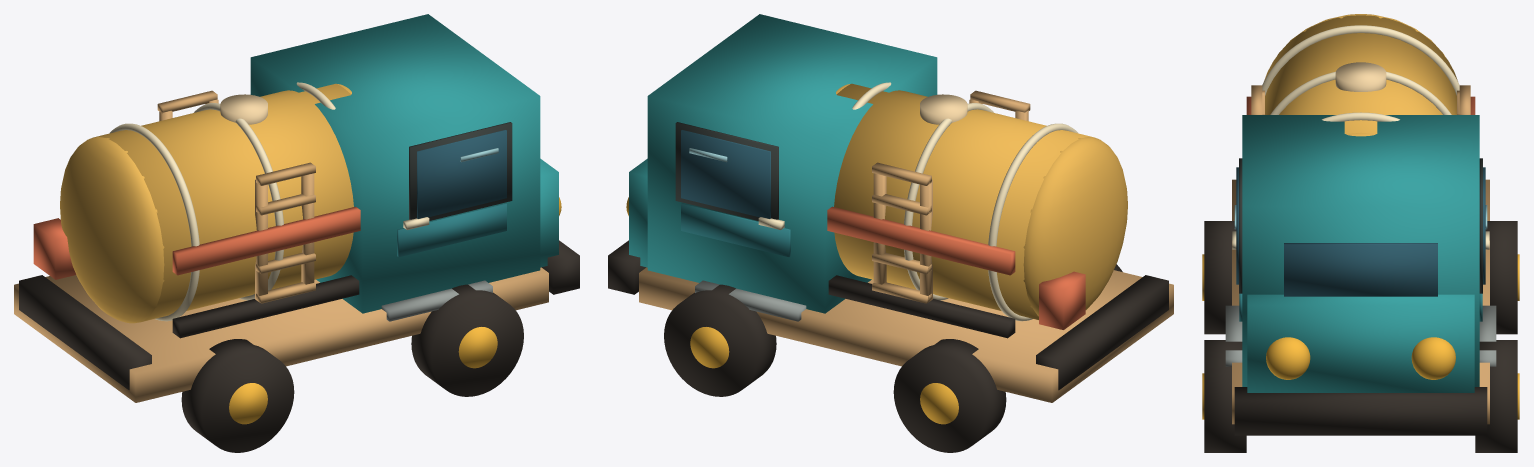
Rendered from fleet-tanker.glb.
The picture shows the model from 3 angles, left to right: view 1: azimuth 30°, elevation 25°; view 2: azimuth 150°, elevation 25°; view 3: azimuth 270°, elevation 25°; orthographic projection. The views are drawn at different scales.
Visible parts, largest first — view 1: Tanker_Cab, Tanker_Tank_Body, Tanker_Chassis, Tanker_Tank_Dome.001, Tanker_Wheel_3, Tanker_Wheel_1, Tanker_Left_Window, Tanker_Rear_Bumper, Tanker_Side_Stripe_Near, Tanker_Side_Pipe_Near, Tanker_Door_Panel_Left, Tanker_Window_Trim_Left (+16 smaller); view 2: Tanker_Cab, Tanker_Tank_Body, Tanker_Chassis, Tanker_Tank_Dome.001, Tanker_Wheel_4, Tanker_Wheel_2, Tanker_Right_Window, Tanker_Rear_Bumper, Tanker_Side_Stripe, Tanker_Side_Pipe, Tanker_Door_Panel_Right, Tanker_Rear_Valve_Box (+16 smaller); view 3: Tanker_Cab, Tanker_Hood, Tanker_Tank_Body, Tanker_Bumper, Tanker_Front_Window, Tanker_Wheel_1, Tanker_Wheel_2, Tanker_Wheel_3, Tanker_Wheel_4, Tanker_Band.002, Tanker_Chassis, Tanker_Headlight_L (+12 smaller).
Part boxes in pixels (x1=…): Tanker_Cab: x1=250, y1=14, x2=540, y2=313; Tanker_Tank_Body: x1=92, y1=83, x2=353, y2=322; Tanker_Chassis: x1=14, y1=267, x2=548, y2=402; Tanker_Tank_Dome.001: x1=60, y1=136, x2=164, y2=323; Tanker_Wheel_3: x1=181, y1=339, x2=294, y2=452; Tanker_Wheel_1: x1=411, y1=284, x2=523, y2=396; Tanker_Left_Window: x1=417, y1=130, x2=506, y2=218; Tanker_Rear_Bumper: x1=19, y1=275, x2=151, y2=390; Tanker_Side_Stripe_Near: x1=172, y1=206, x2=360, y2=275; Tanker_Side_Pipe_Near: x1=172, y1=275, x2=359, y2=338; Tanker_Door_Panel_Left: x1=397, y1=203, x2=506, y2=256; Tanker_Window_Trim_Left: x1=409, y1=122, x2=512, y2=220; Tanker_Cab: x1=647, y1=14, x2=937, y2=313; Tanker_Tank_Body: x1=834, y1=83, x2=1095, y2=319; Tanker_Chassis: x1=639, y1=267, x2=1173, y2=402; Tanker_Tank_Dome.001: x1=1023, y1=136, x2=1127, y2=316; Tanker_Wheel_4: x1=893, y1=339, x2=1006, y2=452; Tanker_Wheel_2: x1=664, y1=284, x2=776, y2=396; Tanker_Right_Window: x1=681, y1=130, x2=770, y2=218; Tanker_Rear_Bumper: x1=1036, y1=275, x2=1168, y2=390; Tanker_Side_Stripe: x1=827, y1=206, x2=1015, y2=275; Tanker_Side_Pipe: x1=828, y1=275, x2=1015, y2=338; Tanker_Door_Panel_Right: x1=681, y1=203, x2=790, y2=256; Tanker_Rear_Valve_Box: x1=1039, y1=271, x2=1085, y2=329; Tanker_Cab: x1=1242, y1=115, x2=1479, y2=386; Tanker_Hood: x1=1247, y1=294, x2=1474, y2=392; Tanker_Tank_Body: x1=1264, y1=15, x2=1457, y2=133; Tanker_Bumper: x1=1234, y1=387, x2=1487, y2=435; Tanker_Front_Window: x1=1284, y1=243, x2=1437, y2=296; Tanker_Wheel_1: x1=1204, y1=340, x2=1246, y2=452; Tanker_Wheel_2: x1=1475, y1=340, x2=1517, y2=452; Tanker_Wheel_3: x1=1204, y1=221, x2=1236, y2=334; Tanker_Wheel_4: x1=1485, y1=221, x2=1517, y2=334; Tanker_Band.002: x1=1262, y1=25, x2=1459, y2=95; Tanker_Chassis: x1=1232, y1=179, x2=1489, y2=424; Tanker_Headlight_L: x1=1266, y1=337, x2=1310, y2=379.
Bounding box in the file's own units: 5.45 × 3.19 × 3.14.
